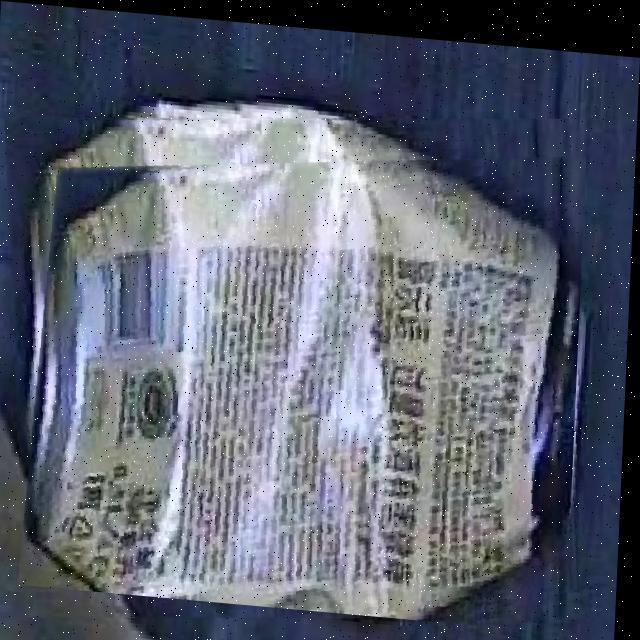can: (25, 146, 582, 610)
